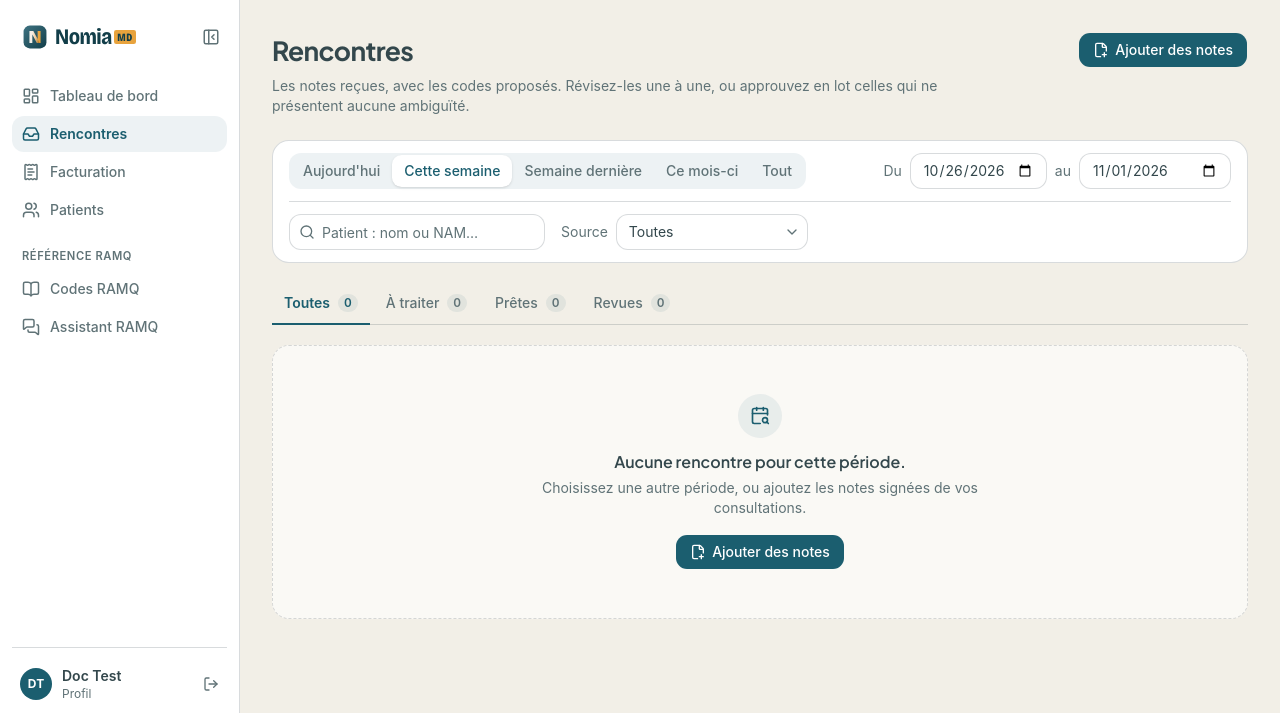
the app area › the sidebar navigates between the app's pages
This screenshot has width=1280, height=713.
Expected: the heading "Rencontres" is shown, [272, 34, 413, 66]
Click the link "Patients".
click(63, 210)  # box [22, 201, 104, 219]
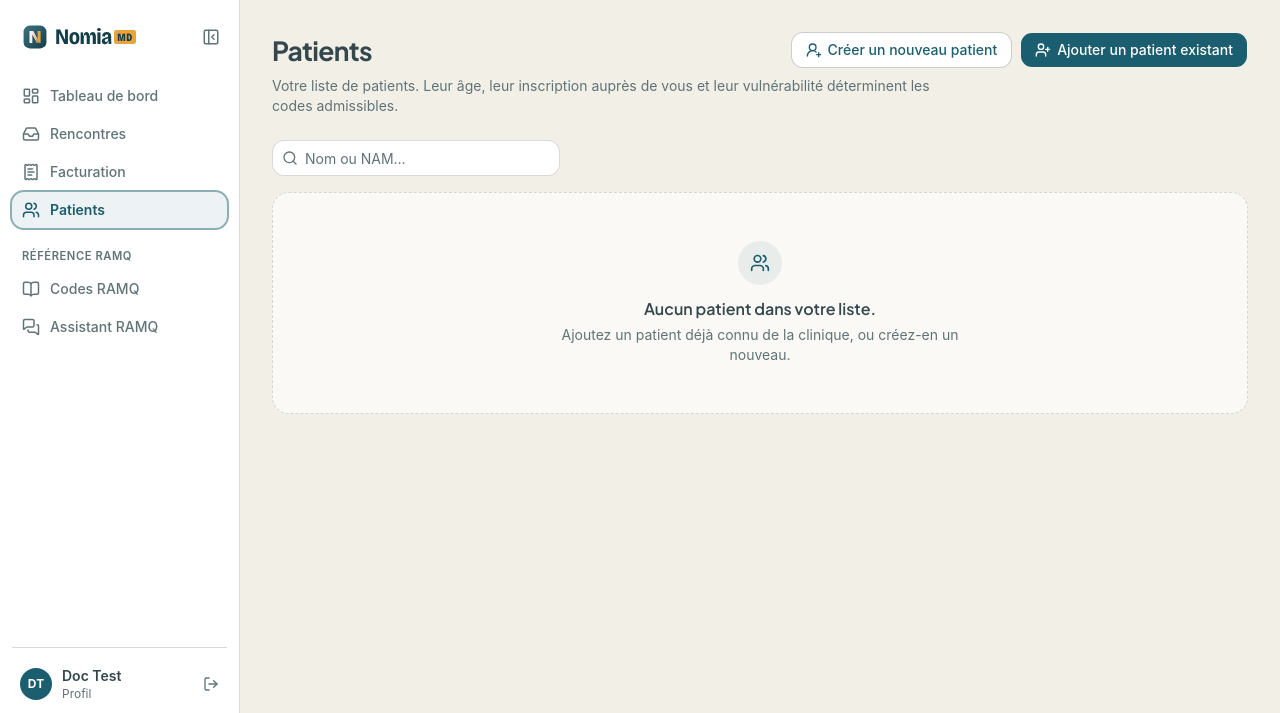
Now the heading "Patients" is shown, box [272, 34, 372, 66]
Click the link "Facturation".
click(74, 172)  # box [22, 163, 126, 181]
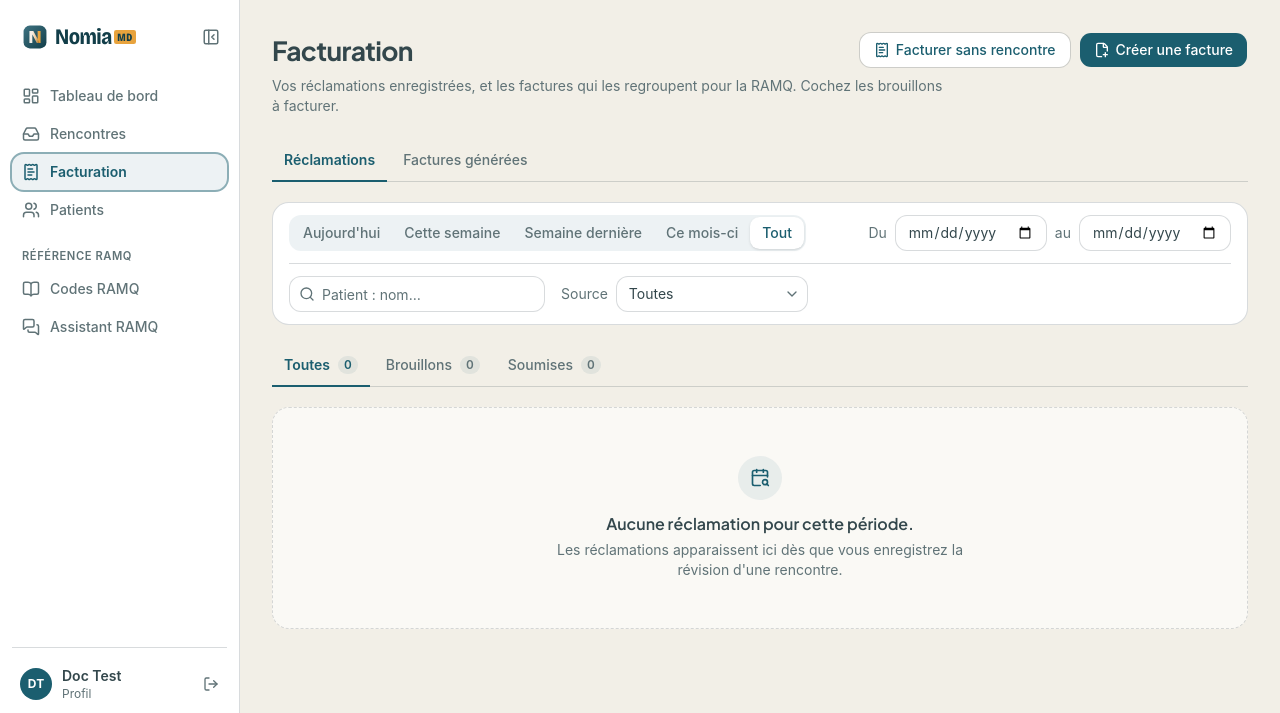
Now the heading "Facturation" is shown, box [272, 34, 413, 66]
Click the link "DT Doc Test Profil".
click(71, 684)  # box [20, 667, 121, 701]
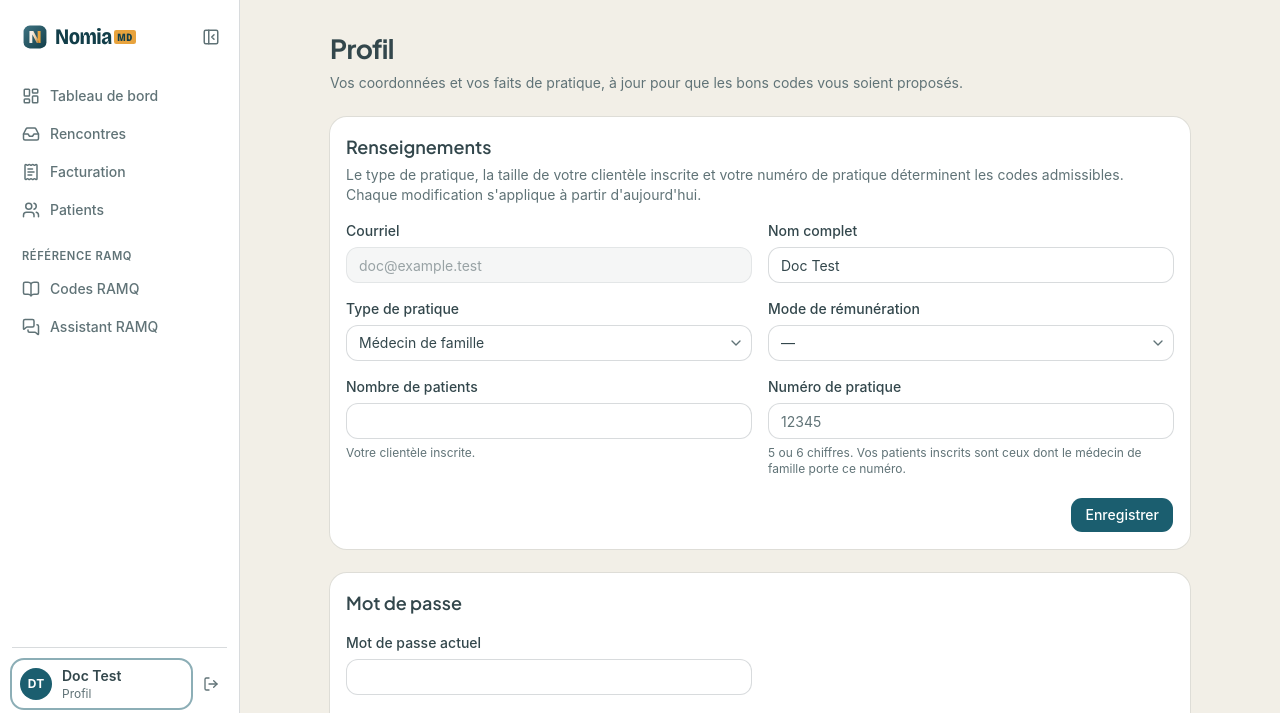
Now the heading "Profil" is shown, box [330, 32, 394, 65]
